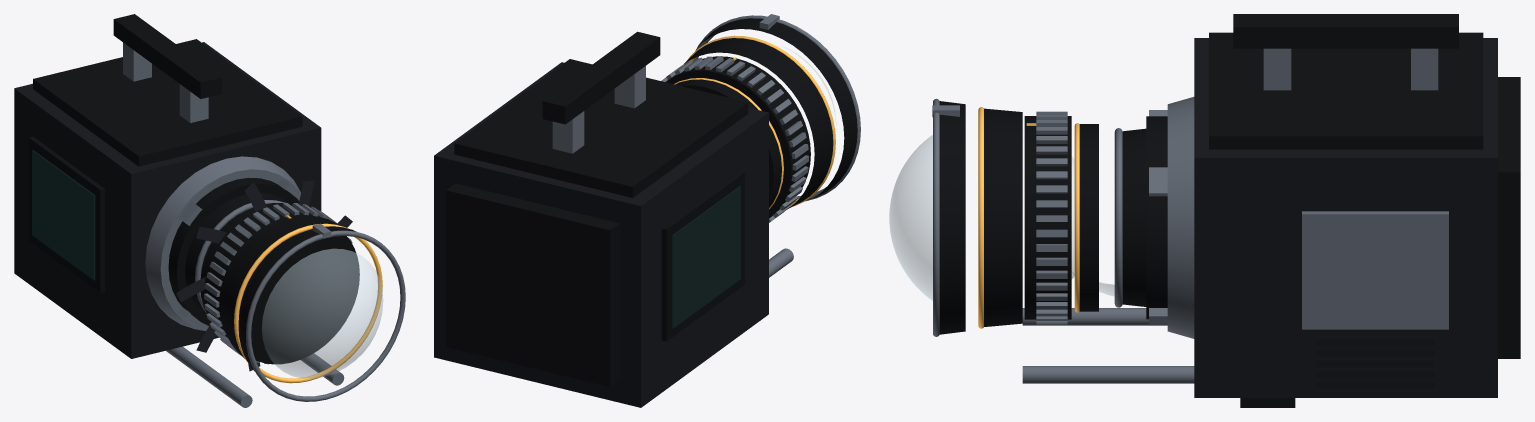
File: cinema-engine.glb
The picture shows the model from 3 angles, left to right: view 1: azimuth 30°, elevation 25°; view 2: azimuth 150°, elevation 25°; view 3: azimuth 270°, elevation 25°; orthographic projection. The views are drawn at different scales.
Visible parts, largest first — view 1: CameraBody, FrontOptics, FocusRing, FrontRing, LensMount, RearOptics, IrisAssembly; view 2: CameraBody, FocusRing, FrontOptics, FrontRing, IrisAssembly; view 3: CameraBody, FrontOptics, FocusRing, FrontRing, RearOptics, LensMount, IrisAssembly.
Part boxes in pixels (x1,y1,x2,y2): CameraBody: (14, 14, 344, 407); FrontOptics: (222, 216, 382, 383); FocusRing: (204, 203, 359, 364); FrontRing: (238, 223, 405, 401); LensMount: (163, 172, 300, 327); RearOptics: (185, 193, 286, 314); IrisAssembly: (200, 203, 290, 313); CameraBody: (434, 31, 793, 407); FocusRing: (661, 56, 810, 222); FrontOptics: (683, 35, 835, 208); FrontRing: (692, 14, 860, 201); IrisAssembly: (674, 78, 783, 209); CameraBody: (1022, 14, 1520, 407); FrontOptics: (889, 107, 1074, 328); FocusRing: (1024, 111, 1071, 324); FrontRing: (932, 98, 965, 336); RearOptics: (1072, 128, 1146, 307); LensMount: (1146, 110, 1167, 325); IrisAssembly: (1074, 123, 1098, 312).
Size of the model in its own units: 1.54 by 1.9 by 3.22.
